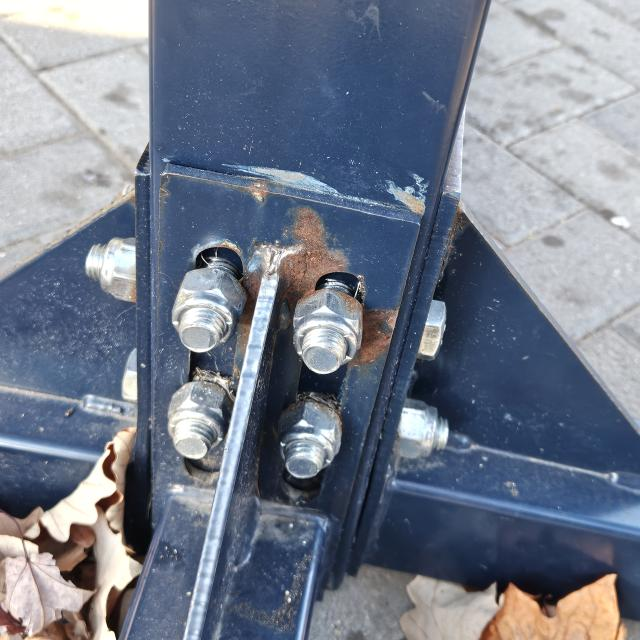Filiform Corrosion: (280, 208, 349, 316), (361, 312, 395, 362), (244, 274, 261, 321)
